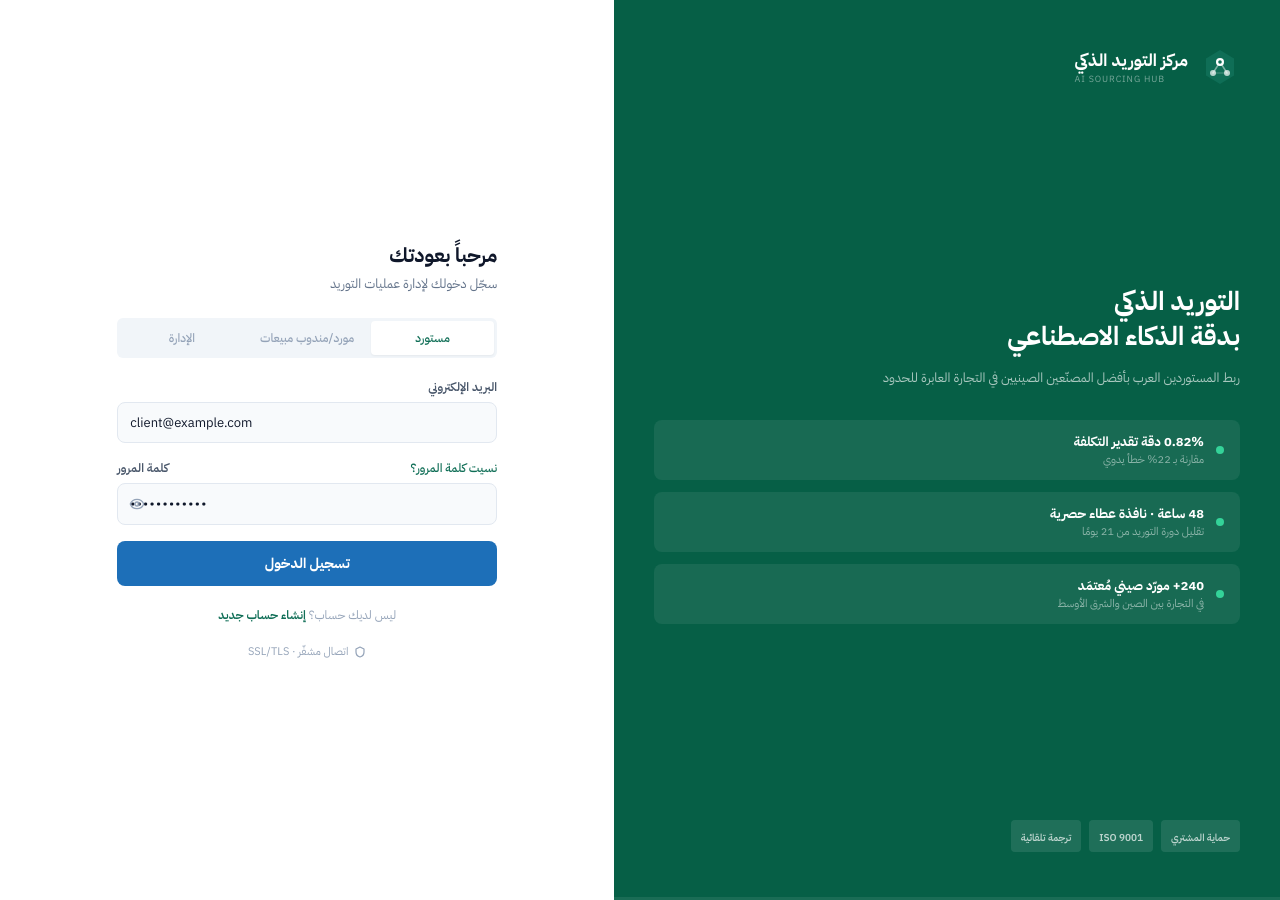
Test: LoginPage — role tabs (client / agent / admin) › switching to the admin tab autofills its demo email
Click the button "الإدارة" at (182, 338), box top-left (120, 320), bottom-right (244, 354)
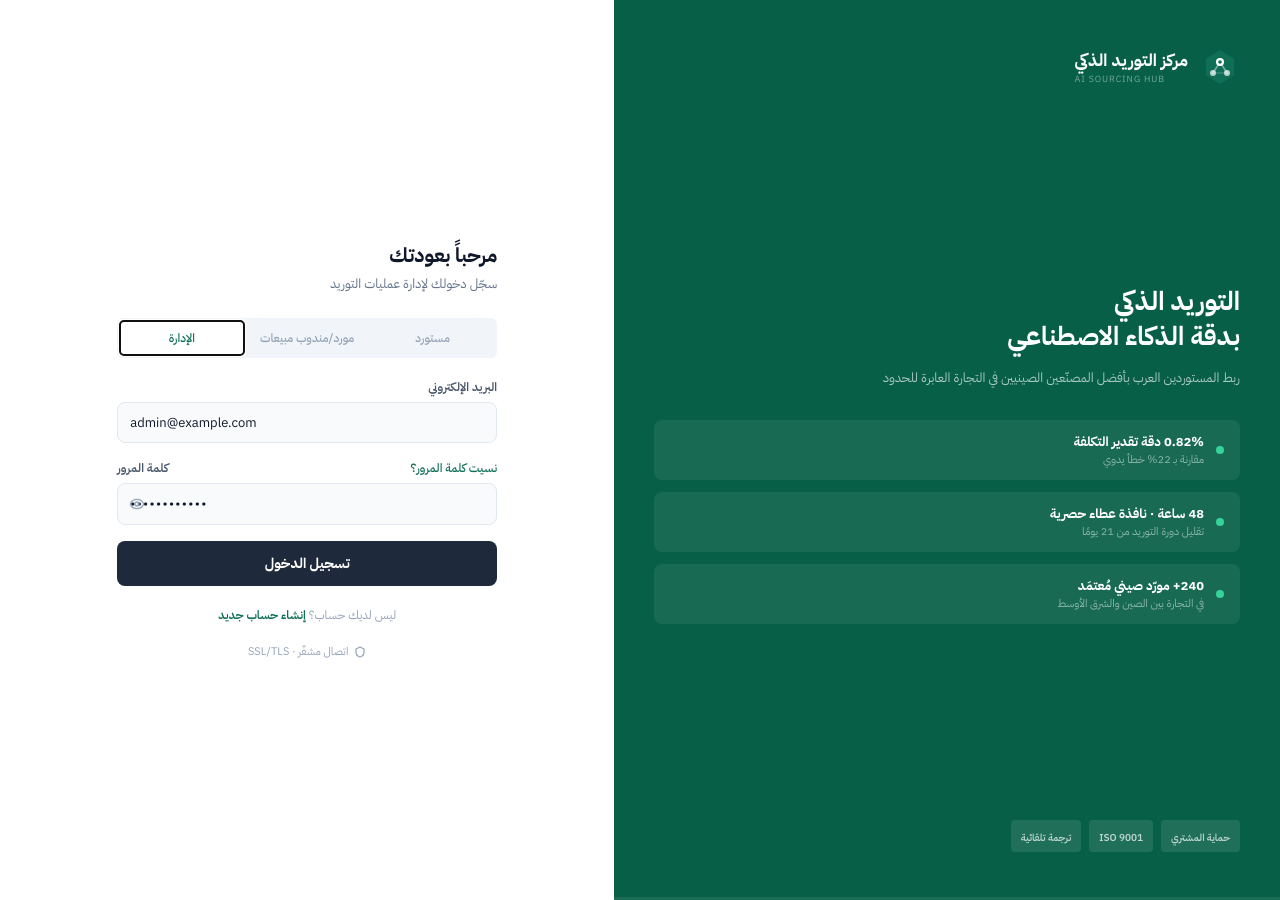
Now the field showing "admin@example.com" is shown, box top-left (117, 402), bottom-right (497, 443)
